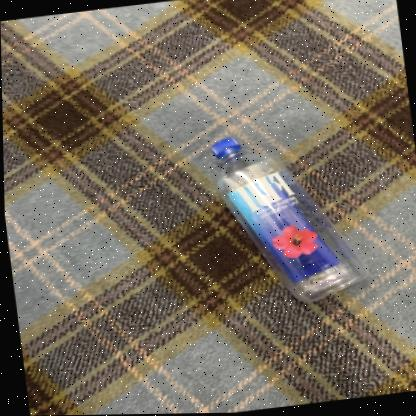Plastic: (211, 139, 367, 303)
